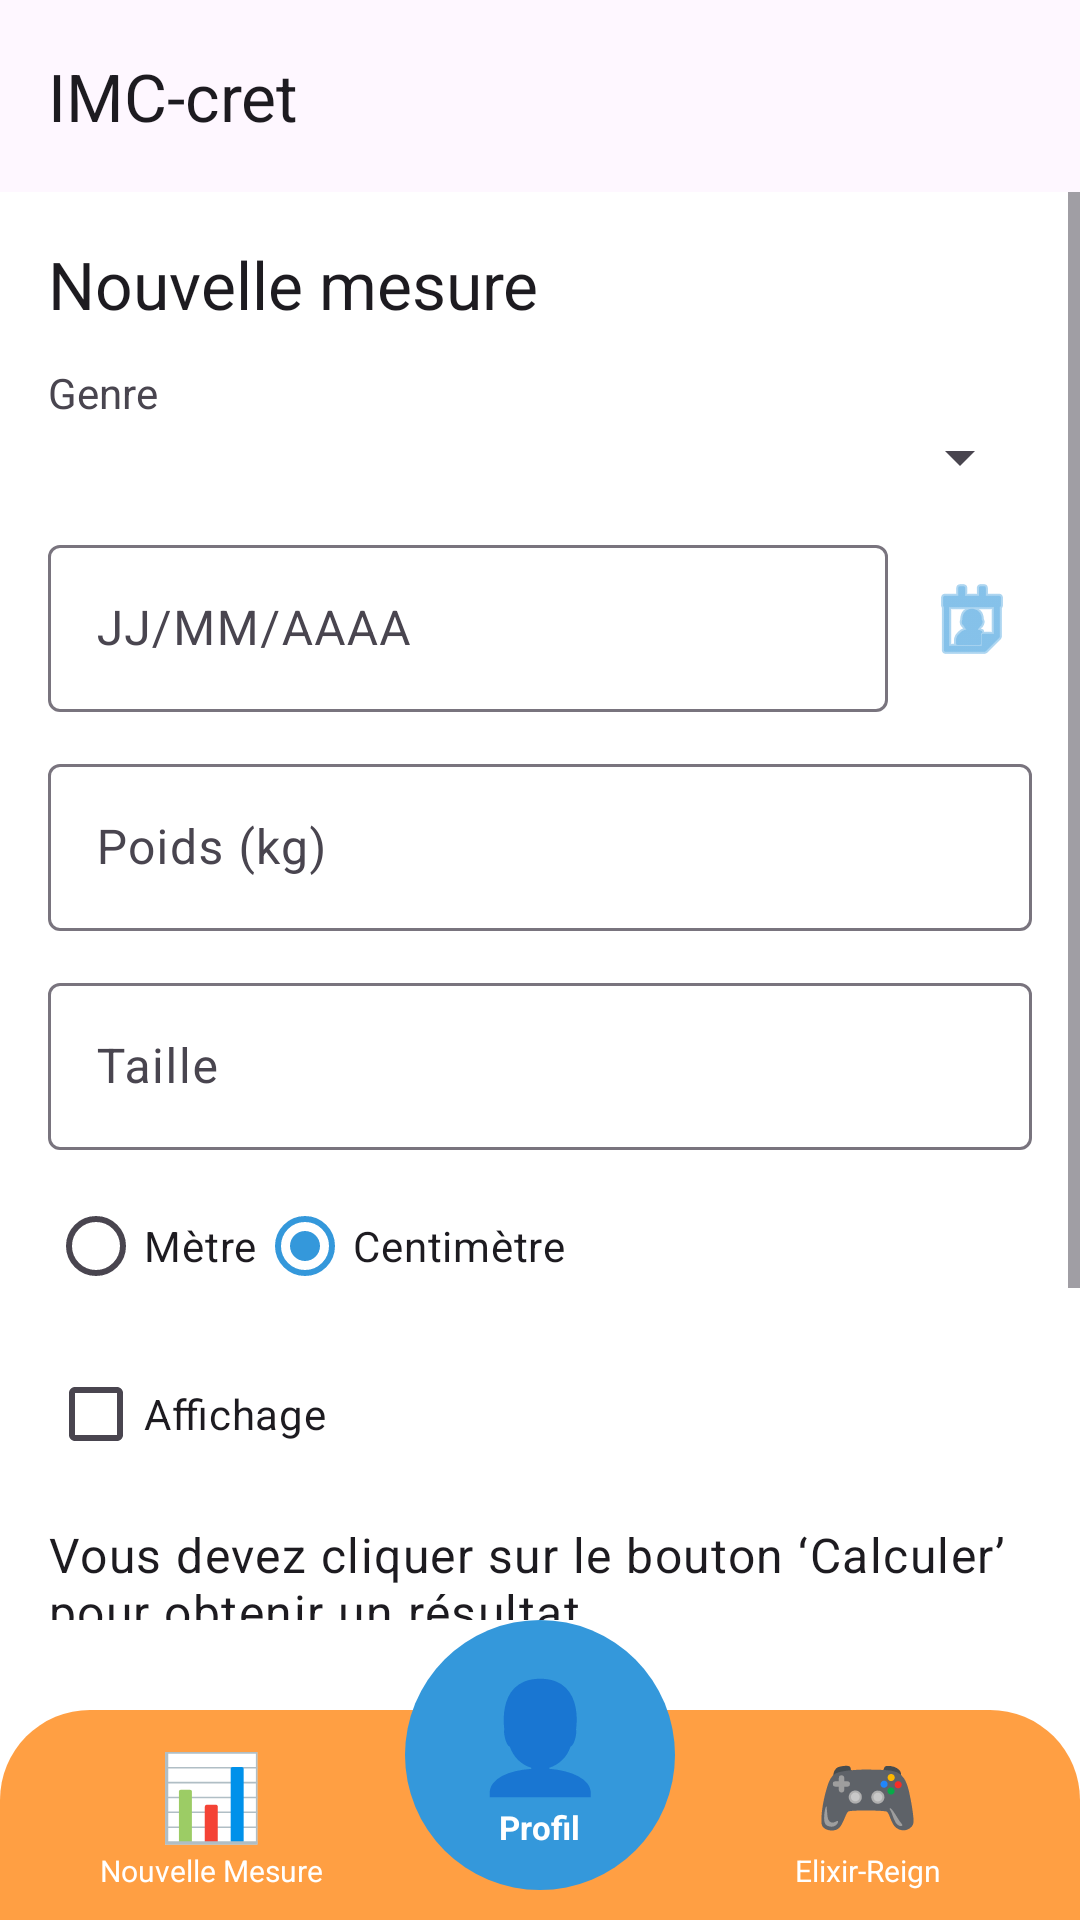

Named icons in this screenshot (1080 × 1920) and their bounding boxes, (x1, y1, x2, y2):
Date: (941, 584, 1003, 654)
